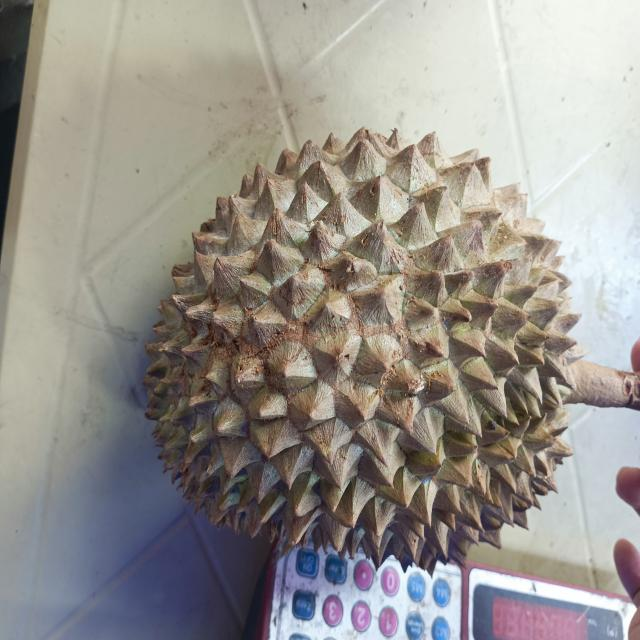mature: (143, 128, 589, 571)
